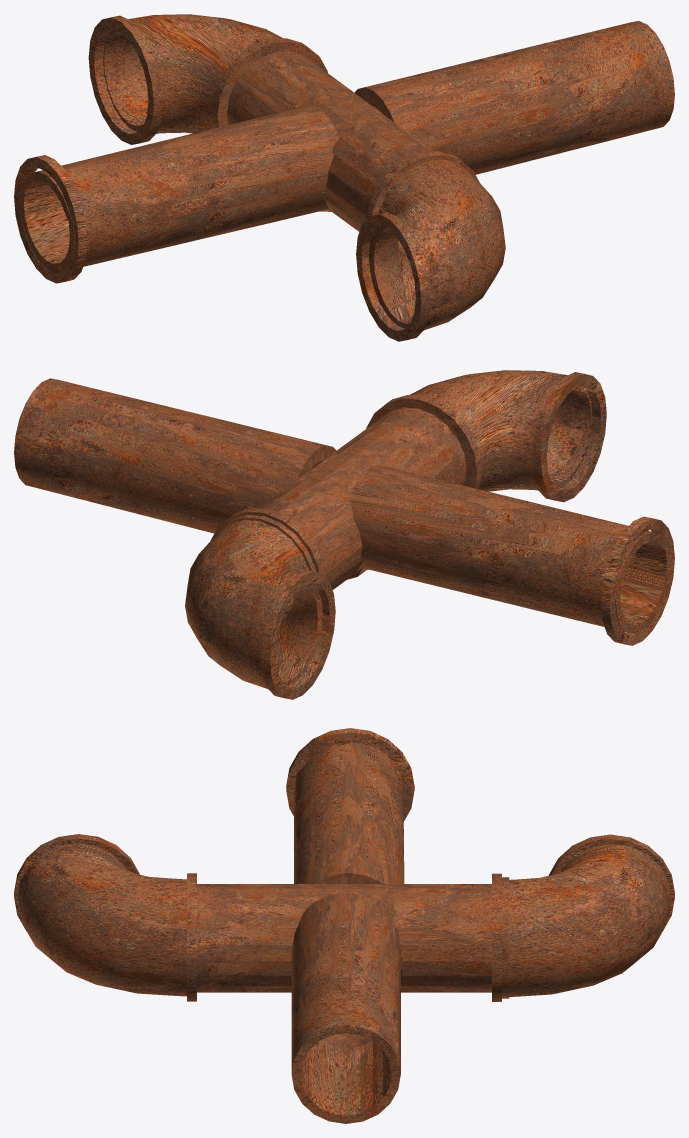
Rendered from pipe 9 c.fbx.
The picture shows the model from 3 angles, top to bottom: view 1: azimuth 30°, elevation 25°; view 2: azimuth 150°, elevation 25°; view 3: azimuth 270°, elevation 25°; orthographic projection.
Parts seen in each view (by area): view 1: pSphere14; view 2: pSphere14; view 3: pSphere14.
Boxes of the visible parts, x1,y1,x2,y2 form: pSphere14: (14,14,674,341); pSphere14: (14,370,674,699); pSphere14: (14,728,674,1123).
Bounding box in the file's own units: 9813 × 1960 × 9465.
